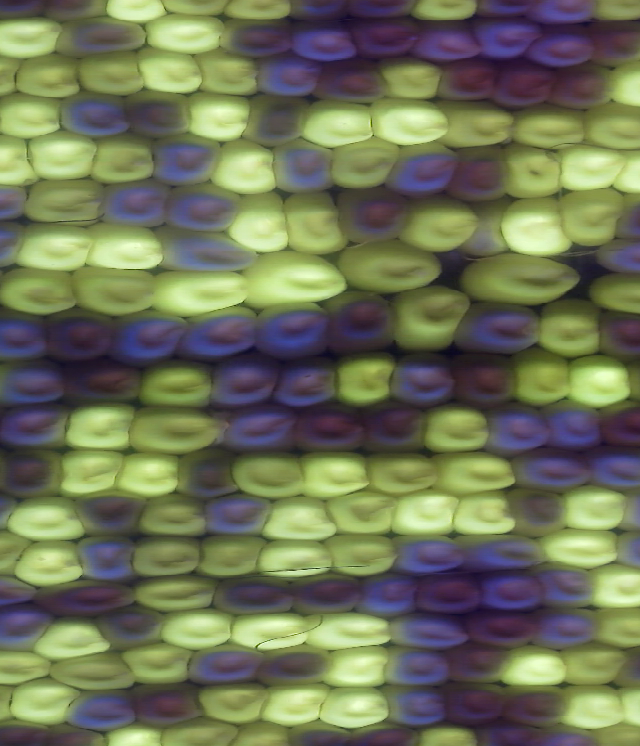fluorescent: (458, 248, 588, 312), (234, 244, 354, 312), (335, 234, 451, 298), (122, 400, 235, 464), (395, 189, 488, 258), (391, 279, 475, 355), (146, 265, 262, 316), (281, 190, 356, 263), (503, 341, 581, 410), (71, 260, 162, 319), (0, 262, 89, 322), (497, 194, 577, 260), (299, 605, 398, 658), (424, 446, 521, 500), (58, 398, 141, 460), (366, 93, 456, 150), (20, 173, 110, 230), (224, 445, 314, 502), (534, 293, 605, 365), (561, 348, 639, 413), (11, 219, 98, 277), (0, 491, 89, 547), (419, 400, 498, 463), (226, 187, 296, 258), (555, 184, 628, 252), (506, 101, 591, 159), (452, 193, 520, 265), (83, 219, 172, 274), (295, 443, 372, 506), (331, 344, 403, 411), (296, 94, 380, 151), (29, 612, 119, 665), (84, 128, 162, 189), (498, 138, 570, 204), (48, 647, 143, 697), (109, 445, 188, 505), (136, 355, 219, 412), (369, 50, 449, 109), (254, 492, 343, 545), (211, 136, 283, 201), (3, 675, 86, 731), (188, 677, 274, 731), (435, 96, 519, 151), (551, 138, 635, 193), (140, 10, 232, 60), (183, 88, 259, 148), (363, 443, 444, 499), (537, 523, 627, 573), (323, 527, 406, 581), (132, 489, 212, 545), (157, 602, 239, 656), (23, 127, 102, 183), (52, 444, 131, 500), (386, 487, 465, 543), (190, 530, 273, 583), (192, 46, 268, 103), (129, 570, 223, 616), (553, 637, 637, 688), (493, 640, 572, 694), (133, 43, 209, 99), (557, 479, 633, 535), (72, 44, 149, 99), (328, 133, 401, 191), (323, 487, 398, 543), (125, 529, 205, 581), (320, 642, 400, 694), (312, 682, 395, 732), (227, 608, 319, 653), (448, 486, 523, 541), (120, 640, 200, 690), (254, 535, 337, 583), (11, 537, 86, 590), (10, 52, 88, 101), (257, 680, 330, 732), (561, 680, 630, 734), (0, 12, 74, 61), (578, 99, 640, 156), (585, 558, 640, 615), (585, 265, 640, 321), (0, 128, 45, 196), (0, 644, 63, 690), (589, 603, 640, 652), (97, 1, 179, 28), (603, 56, 640, 114), (405, 1, 487, 26), (223, 1, 300, 27), (0, 527, 34, 580), (607, 143, 640, 197), (588, 1, 640, 30), (610, 679, 640, 729), (157, 1, 238, 19)
nonfluorescent: (245, 297, 340, 365), (151, 220, 265, 276), (449, 297, 550, 359), (174, 301, 266, 369), (320, 286, 404, 360), (40, 302, 125, 369), (103, 308, 193, 370), (57, 353, 153, 411), (333, 181, 417, 247), (205, 348, 285, 414), (478, 395, 560, 459), (287, 398, 373, 459), (31, 574, 147, 619), (385, 138, 467, 201), (448, 529, 557, 576), (219, 399, 305, 458), (204, 571, 305, 621), (358, 396, 435, 461), (51, 14, 155, 62), (68, 485, 156, 541), (445, 348, 523, 411), (385, 349, 463, 412), (160, 179, 247, 235), (268, 353, 347, 413), (383, 529, 475, 580), (237, 89, 312, 151), (268, 137, 343, 199), (54, 88, 137, 144), (118, 86, 199, 143), (342, 10, 427, 64), (126, 679, 209, 734), (541, 57, 621, 114), (289, 571, 378, 622), (465, 9, 546, 65), (382, 608, 476, 656), (98, 174, 173, 234), (308, 59, 396, 110), (509, 441, 595, 493), (174, 445, 248, 505), (183, 639, 270, 690), (375, 681, 457, 735), (198, 489, 278, 544), (437, 677, 517, 732), (473, 565, 554, 619), (527, 600, 605, 656), (445, 139, 514, 202), (525, 559, 605, 613), (404, 16, 485, 69), (487, 55, 562, 112), (148, 130, 227, 184), (349, 569, 425, 625), (505, 480, 573, 542), (0, 444, 71, 503), (95, 599, 174, 652), (72, 530, 143, 588), (246, 49, 325, 101), (0, 400, 79, 452), (64, 683, 143, 735), (253, 642, 335, 692), (538, 394, 611, 450), (466, 599, 544, 651), (523, 19, 601, 71), (501, 677, 578, 729), (409, 569, 489, 619), (379, 642, 455, 694), (0, 355, 70, 410), (217, 14, 296, 62), (286, 15, 361, 65), (431, 54, 502, 105), (0, 304, 54, 368), (442, 640, 514, 687), (0, 599, 59, 656), (579, 441, 640, 492), (590, 305, 640, 367), (586, 15, 640, 71), (595, 395, 640, 455), (525, 1, 609, 30), (593, 235, 640, 281), (0, 213, 34, 272), (0, 566, 38, 615), (39, 721, 111, 746), (0, 177, 35, 227), (0, 715, 55, 746)
